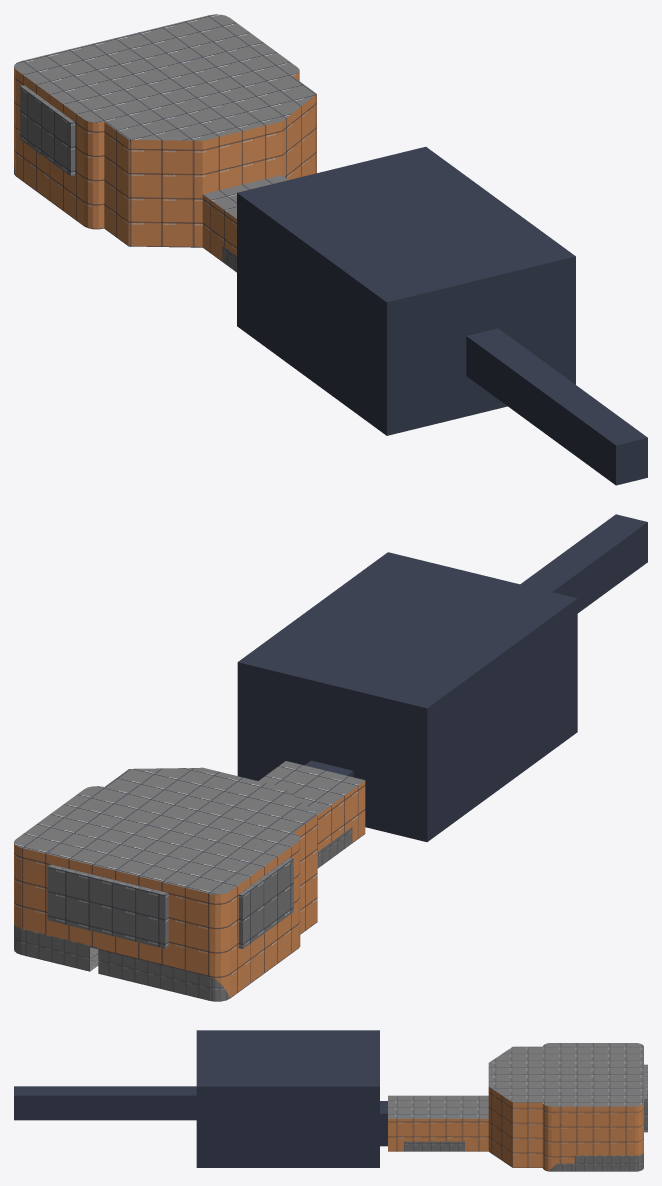
File: test_movement.glb
3 renders of one model, top to bottom at view 1: azimuth 30°, elevation 25°; view 2: azimuth 150°, elevation 25°; view 3: azimuth 270°, elevation 25°, orthographic. The views are drawn at different scales.
Parts seen in each view (by area): view 1: rmtc_west_railway.003, rmtc_west_railway, rmtc_west_railway.004, rmtc_SECTOR2D.018, rmtc_west_railway.001; view 2: rmtc_west_railway.003, rmtc_west_railway, rmtc_SECTOR2D.017, rmtc_west_railway.004, rmtc_west_railway.001, rmtc_SECTOR2D.018, rmtc_BRUSH.004, rmtc_BRUSH.002; view 3: rmtc_west_railway.003, rmtc_west_railway, rmtc_west_railway.004, rmtc_west_railway.001, rmtc_BRUSH.002, rmtc_BRUSH.006, rmtc_west_railway.002, rmtc_SECTOR2D.017.
Boxes of the visible parts, x1,y1,x2,y2 form: rmtc_west_railway.003: (237, 146, 575, 435); rmtc_west_railway: (14, 14, 316, 247); rmtc_west_railway.004: (466, 328, 647, 485); rmtc_SECTOR2D.018: (20, 85, 74, 176); rmtc_west_railway.001: (202, 175, 288, 261); rmtc_west_railway.003: (237, 552, 577, 841); rmtc_west_railway: (14, 767, 317, 997); rmtc_SECTOR2D.017: (47, 864, 168, 948); rmtc_west_railway.004: (520, 514, 647, 613); rmtc_west_railway.001: (258, 761, 365, 851); rmtc_SECTOR2D.018: (238, 857, 293, 948); rmtc_BRUSH.004: (98, 949, 230, 1001); rmtc_BRUSH.002: (14, 924, 98, 971); rmtc_west_railway.003: (196, 1030, 379, 1167); rmtc_west_railway: (488, 1043, 643, 1171); rmtc_west_railway.004: (14, 1086, 196, 1120); rmtc_west_railway.001: (388, 1095, 488, 1151); rmtc_BRUSH.002: (574, 1152, 643, 1171); rmtc_BRUSH.006: (404, 1141, 464, 1151); rmtc_west_railway.002: (380, 1101, 387, 1146); rmtc_SECTOR2D.017: (644, 1064, 647, 1132).
Bounding box in the file's own units: 17.08 × 10 × 70.49.
2 materials, 2 textured.
